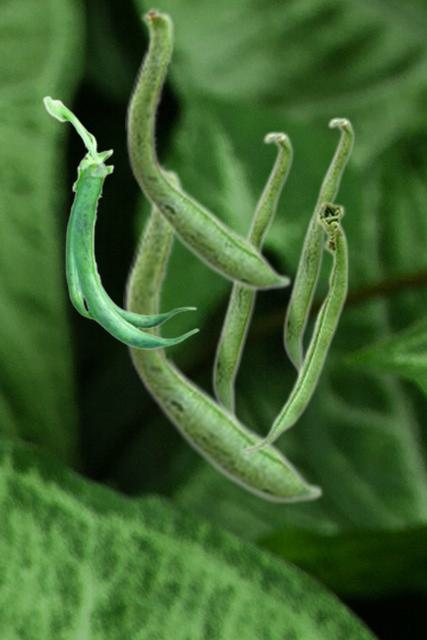french_bean: (123, 162, 323, 504), (125, 5, 291, 291), (42, 95, 198, 349), (240, 199, 348, 453), (211, 130, 293, 416), (282, 116, 354, 372)
